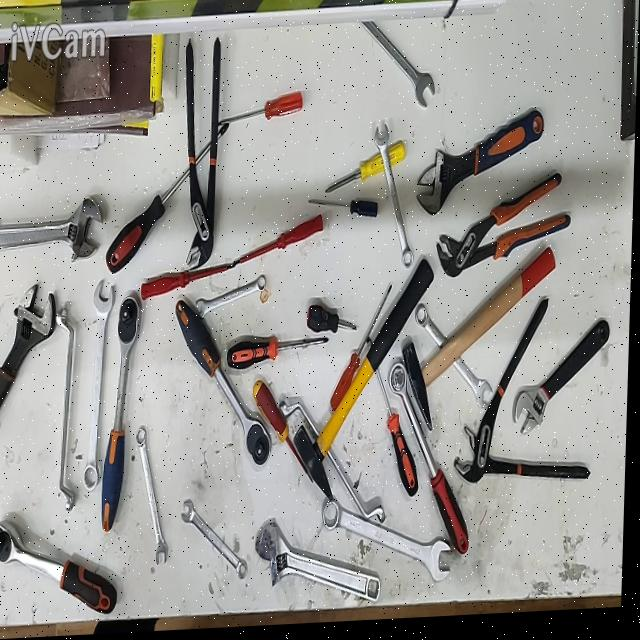Screwdriver: (108, 127, 232, 274), (369, 340, 422, 500), (332, 288, 394, 417), (256, 382, 316, 489), (236, 218, 326, 266), (325, 148, 406, 196), (143, 267, 238, 303), (229, 339, 330, 372), (219, 94, 304, 129), (310, 307, 359, 336), (309, 203, 380, 222)
